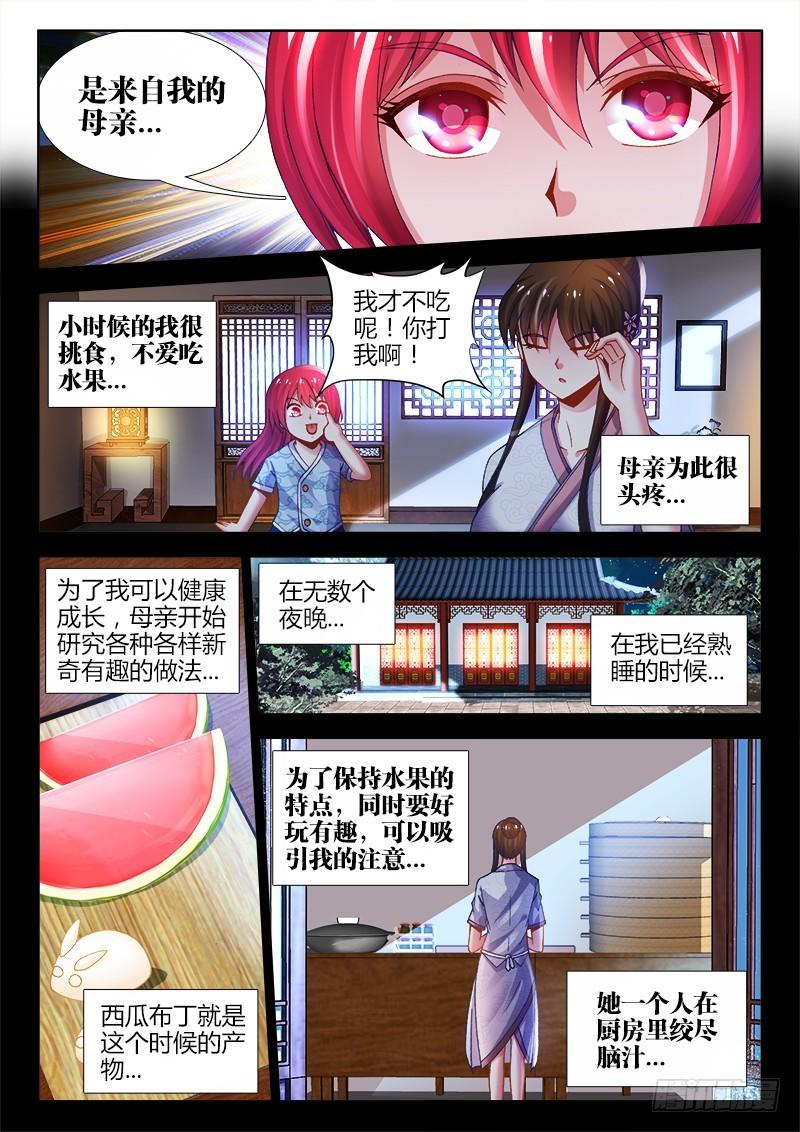boxBomb: (312, 245, 492, 398)
boxCube: (267, 745, 474, 889), (42, 559, 243, 700), (560, 963, 749, 1089), (42, 293, 225, 410), (75, 982, 258, 1096), (585, 610, 750, 709), (597, 428, 752, 524), (255, 559, 399, 646)
boxEllipse: (30, 23, 273, 188)
minBox: (30, 236, 768, 541), (252, 730, 777, 1111), (27, 23, 774, 272), (33, 547, 279, 1111), (243, 544, 777, 721)
